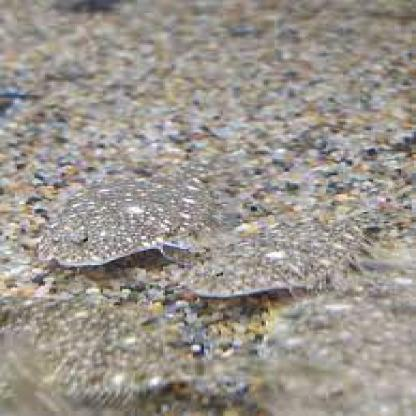flounder: (29, 159, 227, 269), (175, 208, 397, 302)
